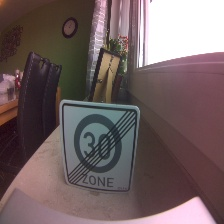dreisiger_zone_ende: (58, 99, 139, 195)
